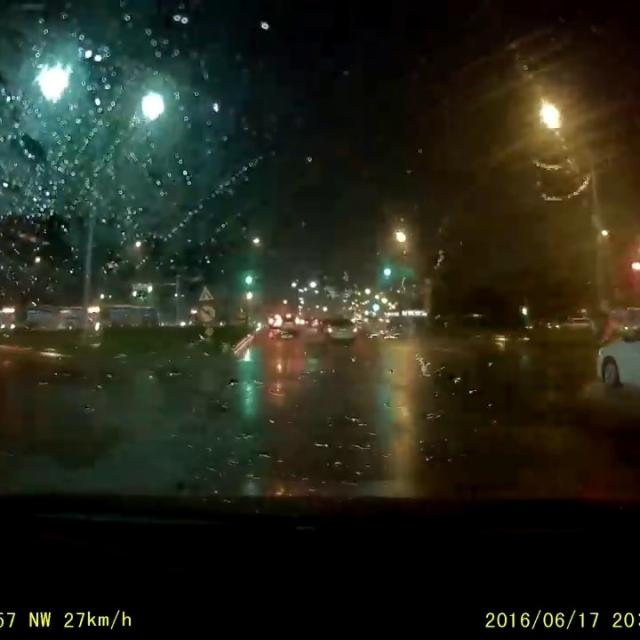Car: (589, 321, 639, 390), (316, 314, 359, 341), (547, 313, 592, 336)
